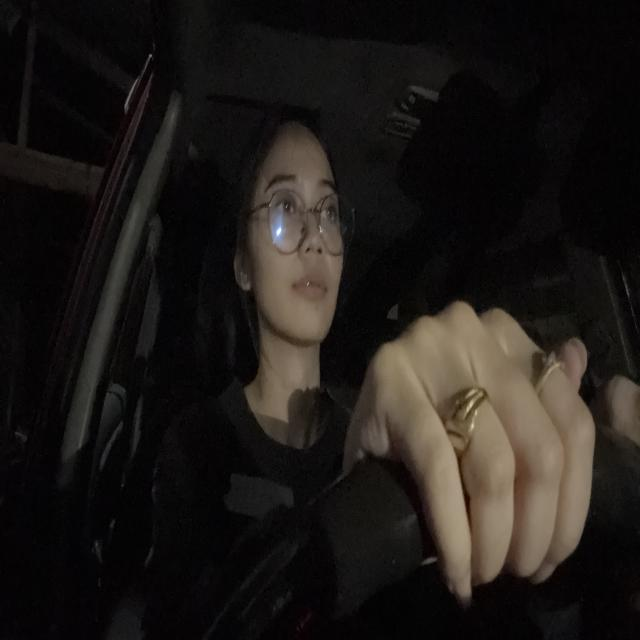open: (261, 169, 306, 232), (314, 166, 344, 239)
